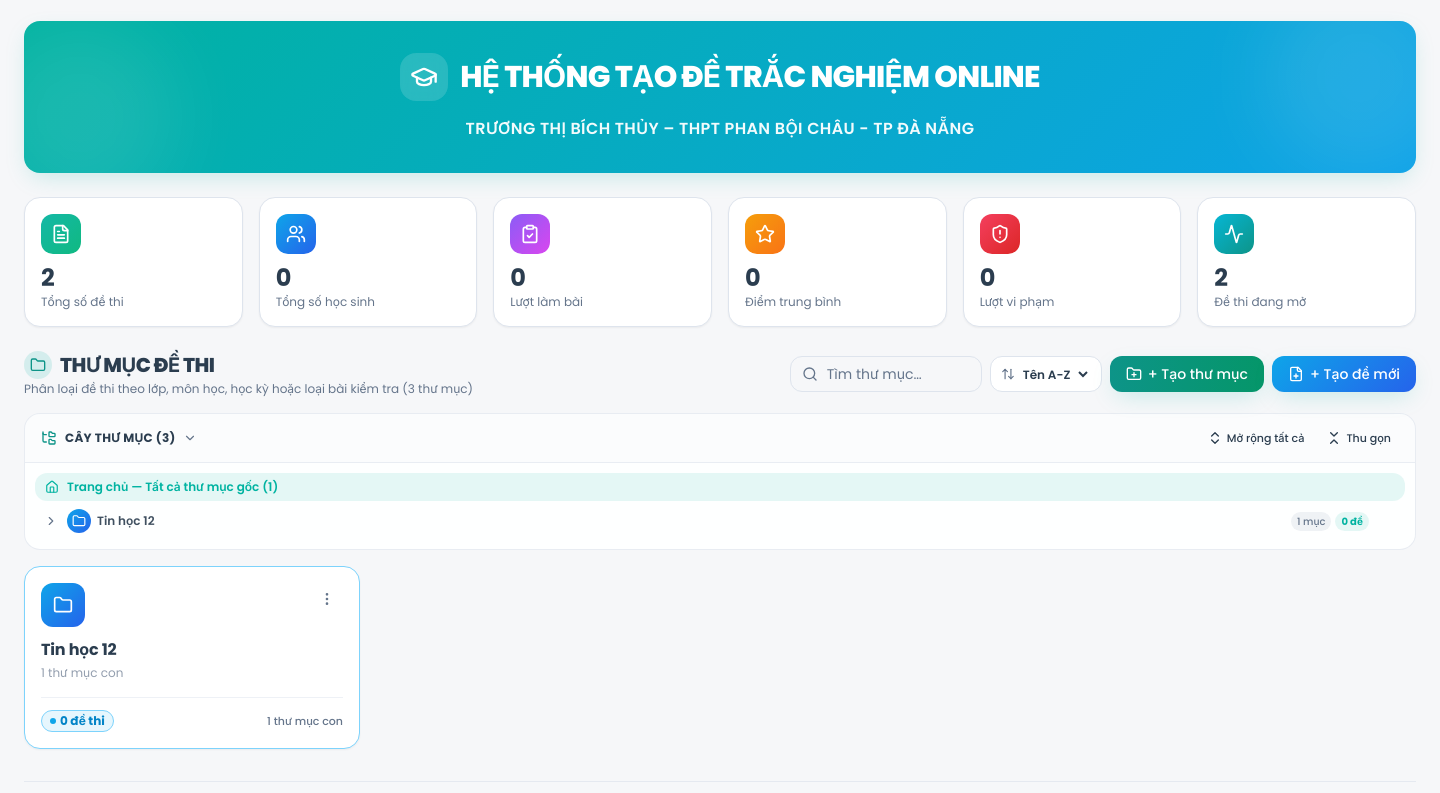
HỆ THỐNG QUẢN LÝ THƯ MỤC NHIỀU CẤP & TẠO ĐỀ TRONG THƯ MỤC CON › 3. Giao diện nhiều cấp, Breadcrumb, Cây thư mục, Modals & Tạo đề trong thư mục con › 3.1. Hiển thị trang chủ chỉ gồm thư mục gốc, mở sâu 3 cấp, Breadcrumb bấm ngược cấp cha và nút '+ Tạo đề mới' trỏ đúng subfolder
The width and height of the screenshot is (1440, 793).
Expected: the text "Cây thư mục (3)" is shown, [65,430,176,446]
Click the text "Tin học 12" at (126, 520), box [97,512,155,529]
(page scrolled)
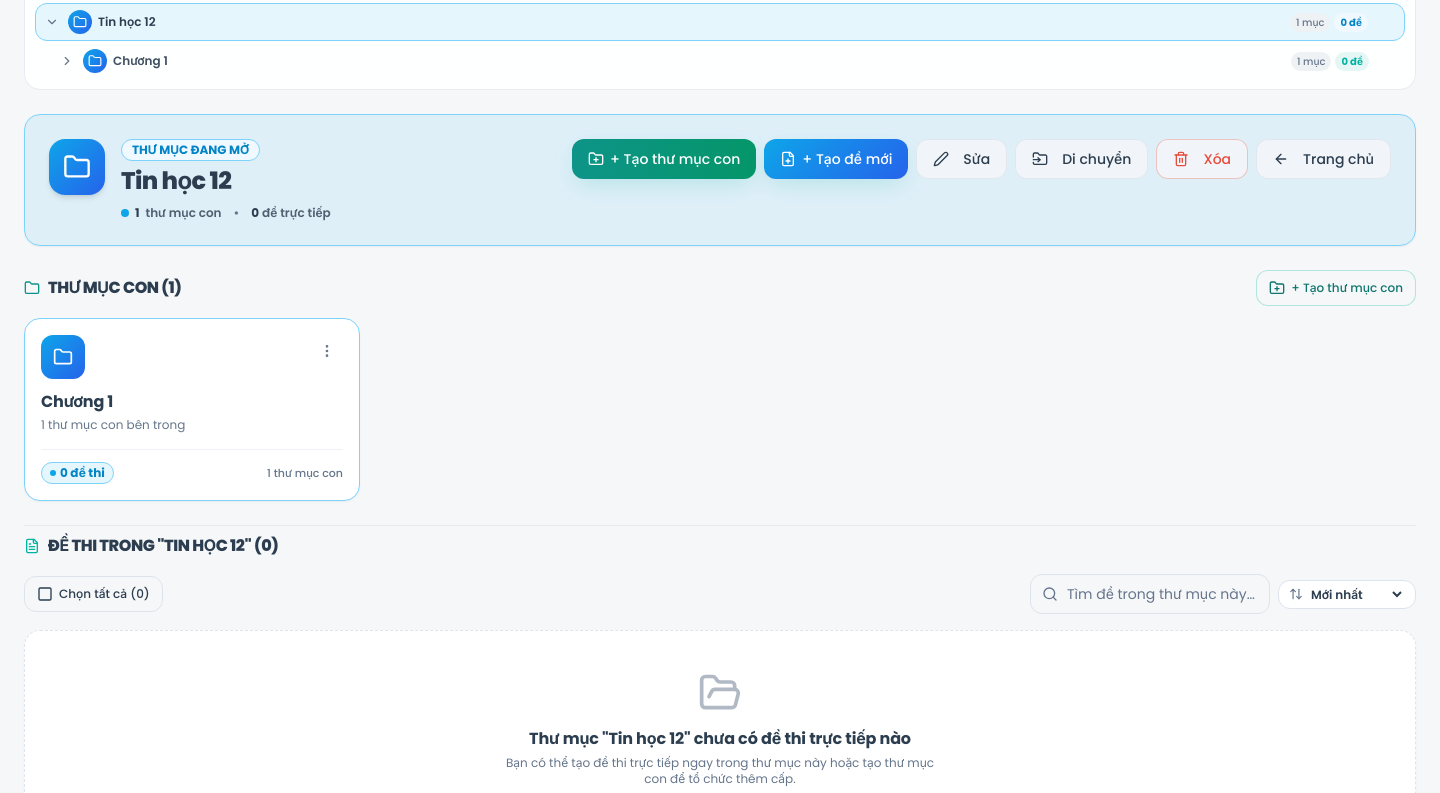
Result: the heading "Thư mục con (1)" is shown at [48,276,181,300]
Click the heading "Chương 1" at (77, 402), box [41,390,113,413]
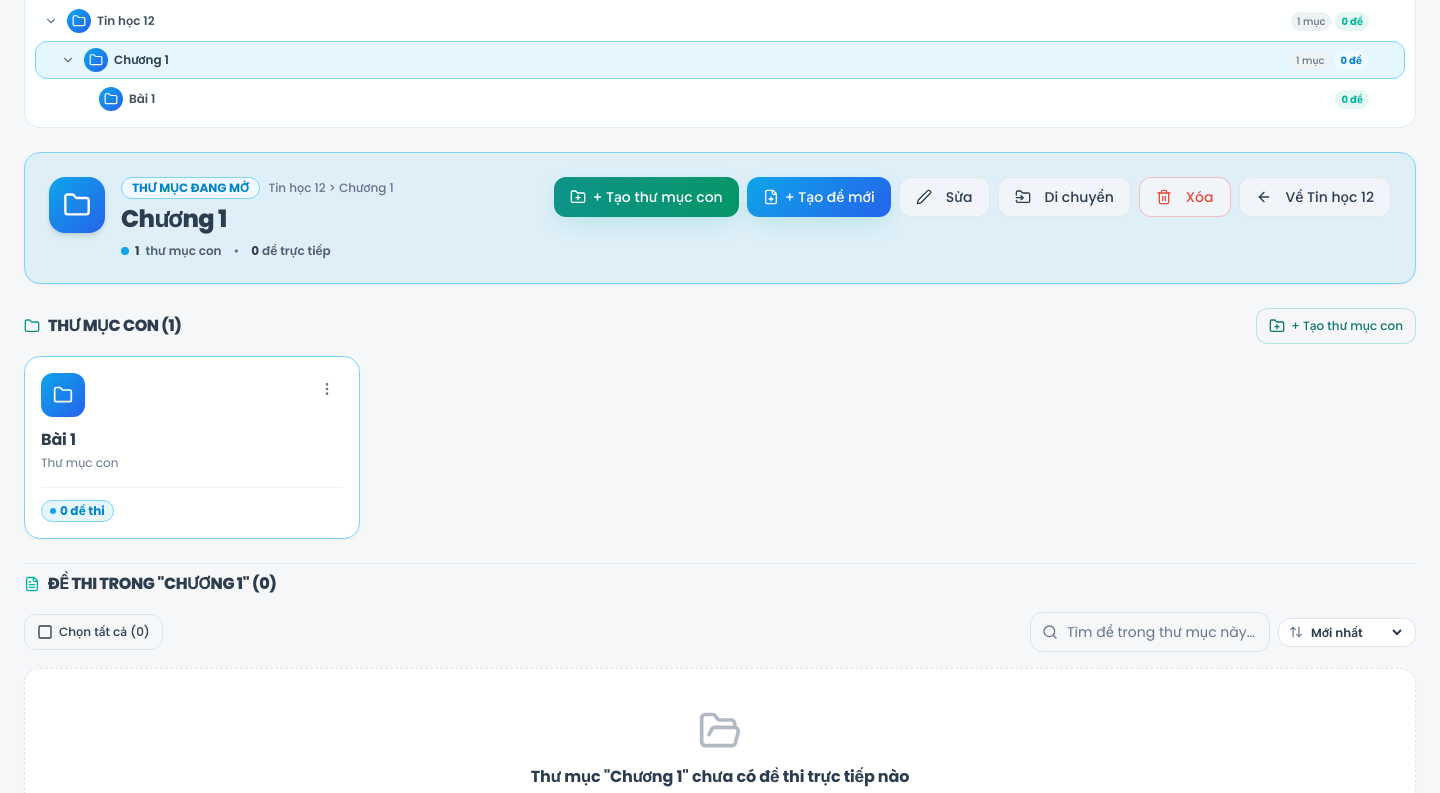
// Mở tiếp Bài 1 (cấp 3)
Click the heading "Bài 1" at (58, 440), box [41,428,76,451]
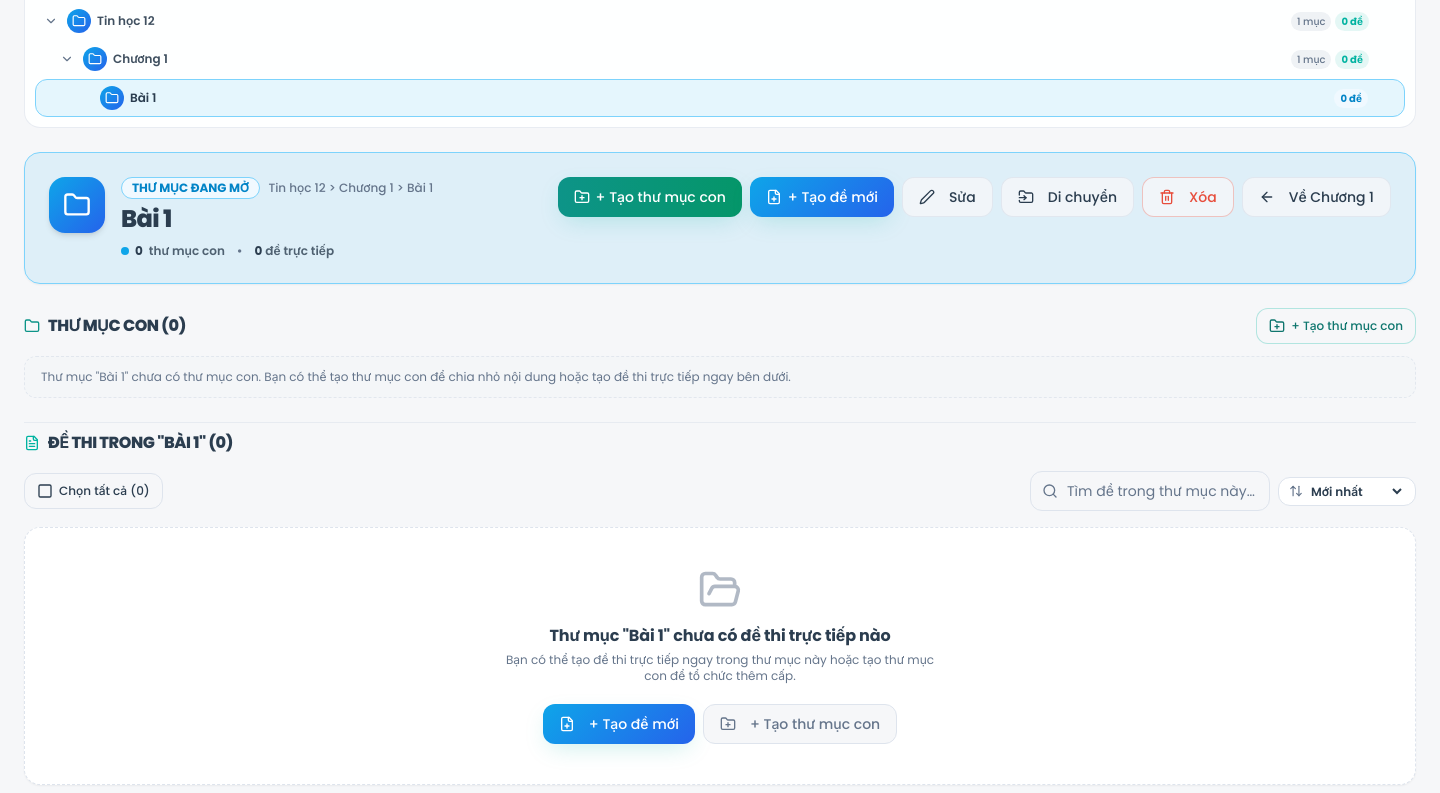
Click the link "+ Tạo đề mới" in the row of "Tin học 12 > Chương 1 > Bài 1" at (822, 197), box [750,177,894,217]
(page scrolled)
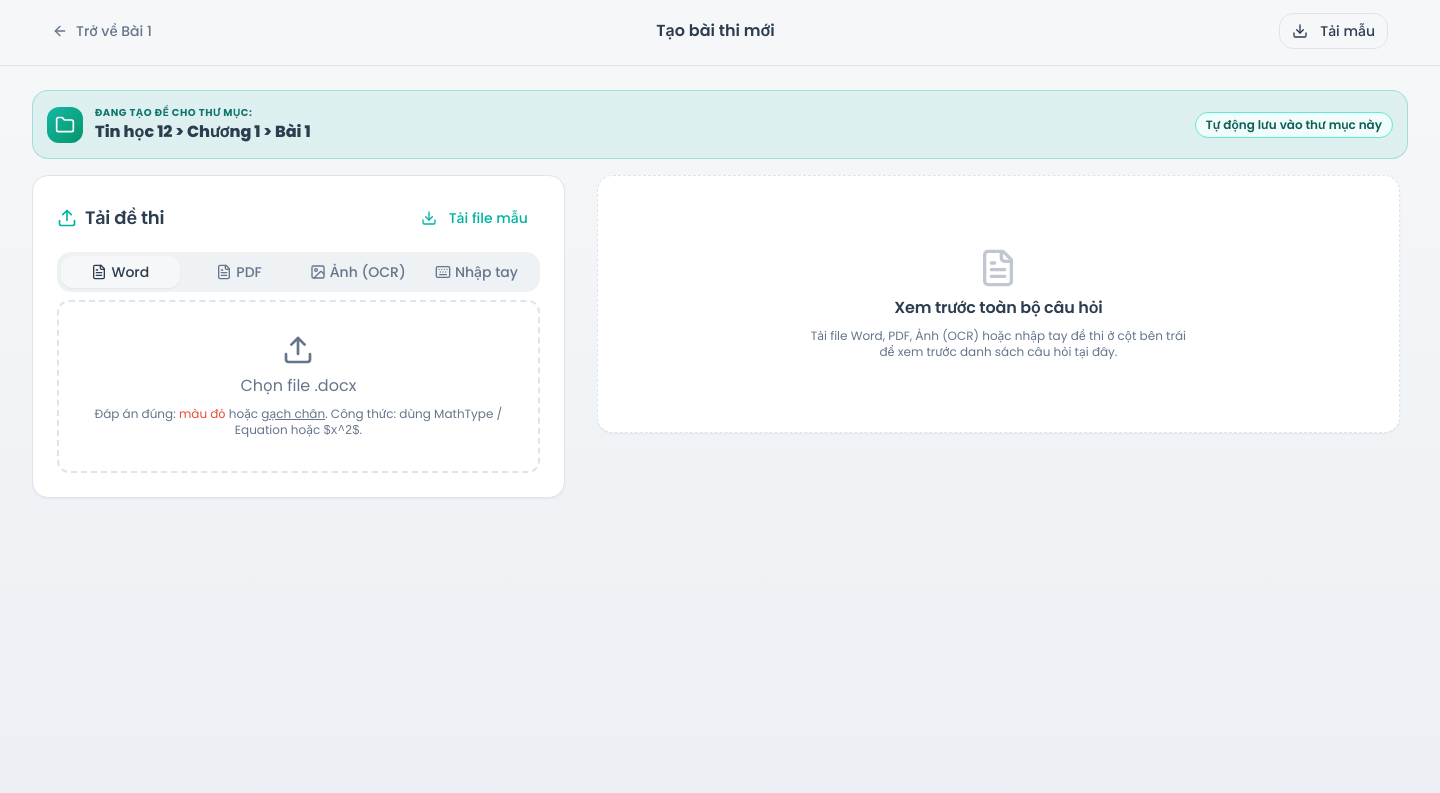
Result: the text "Tin học 12 > Chương 1 > Bài 1" is shown at [95,120,311,144]
Result: the text "Tạo bài thi mới" is shown at [656,19,775,43]
